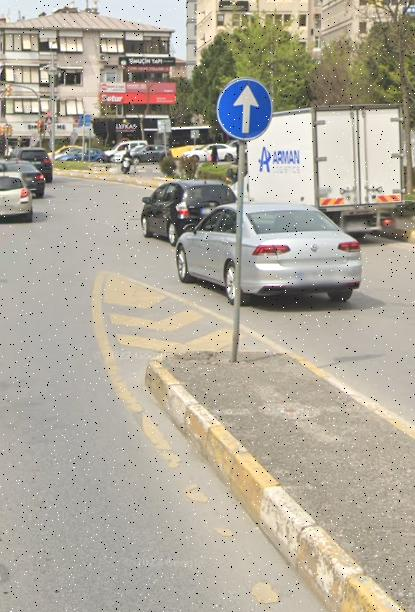forward: (223, 82, 273, 140)
